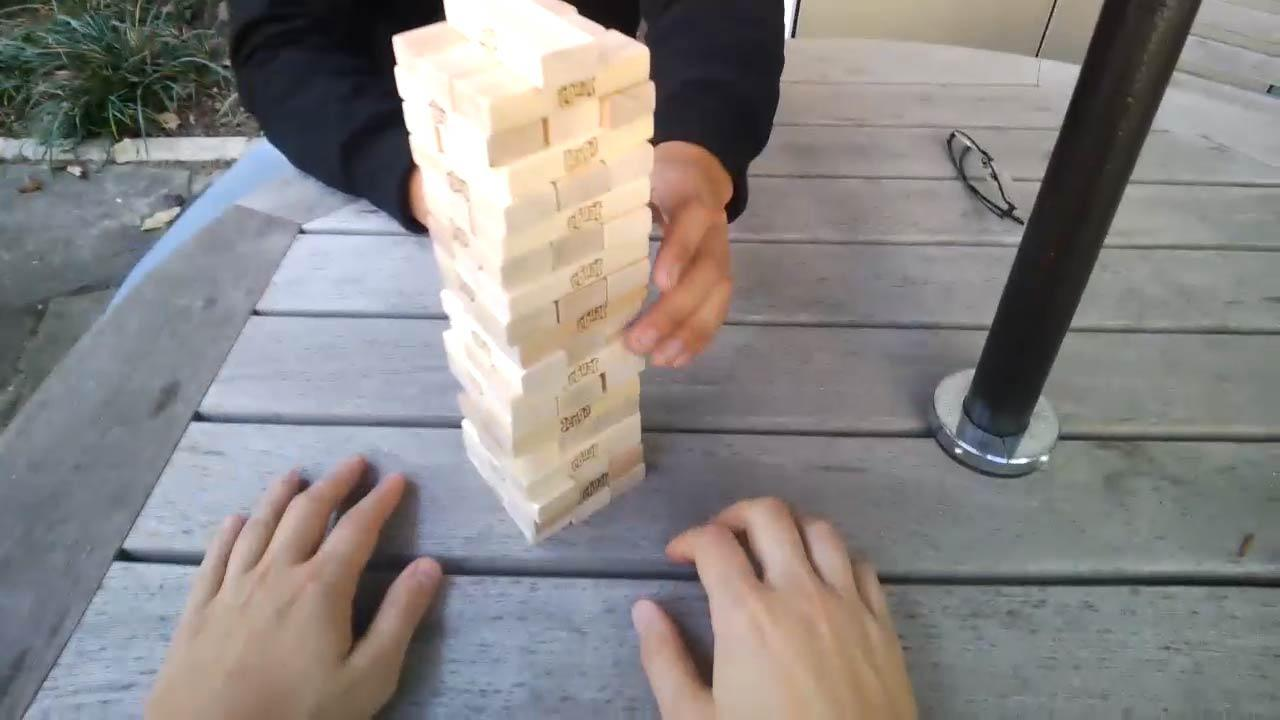hand: (148, 454, 437, 720), (627, 497, 929, 720), (648, 138, 734, 388)
